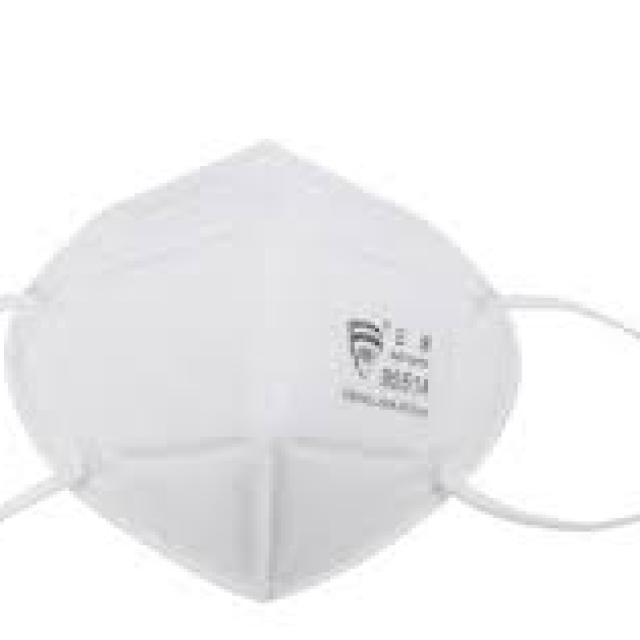organic: (17, 117, 581, 612)
